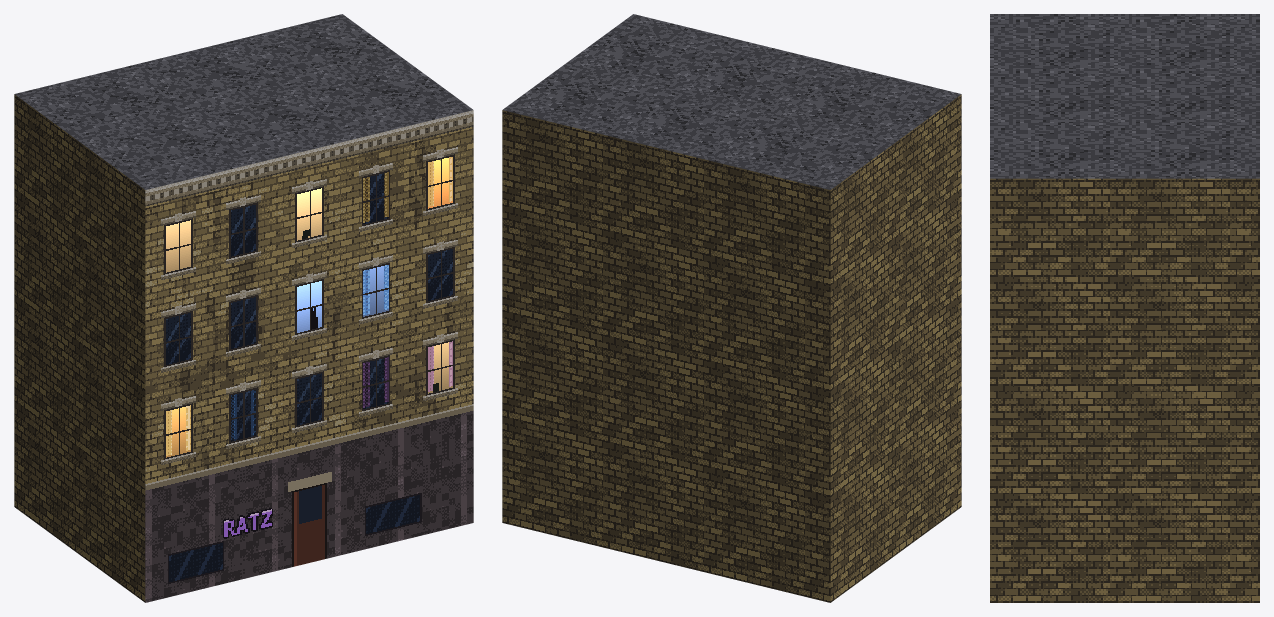
Rendered from Kulisse_9.glb.
The picture shows the model from 3 angles, left to right: view 1: azimuth 30°, elevation 25°; view 2: azimuth 150°, elevation 25°; view 3: azimuth 270°, elevation 25°; orthographic projection. The views are drawn at different scales.
Visible parts, largest first — view 1: Kulisse_9; view 2: Kulisse_9; view 3: Kulisse_9.
Part boxes in pixels (box(x1,y1,x2,y2)): Kulisse_9: box(14, 14, 473, 602); Kulisse_9: box(502, 14, 961, 602); Kulisse_9: box(990, 14, 1259, 602).
Size of the model in its own units: 13 by 15.62 by 9.
3 materials, 3 textured.
